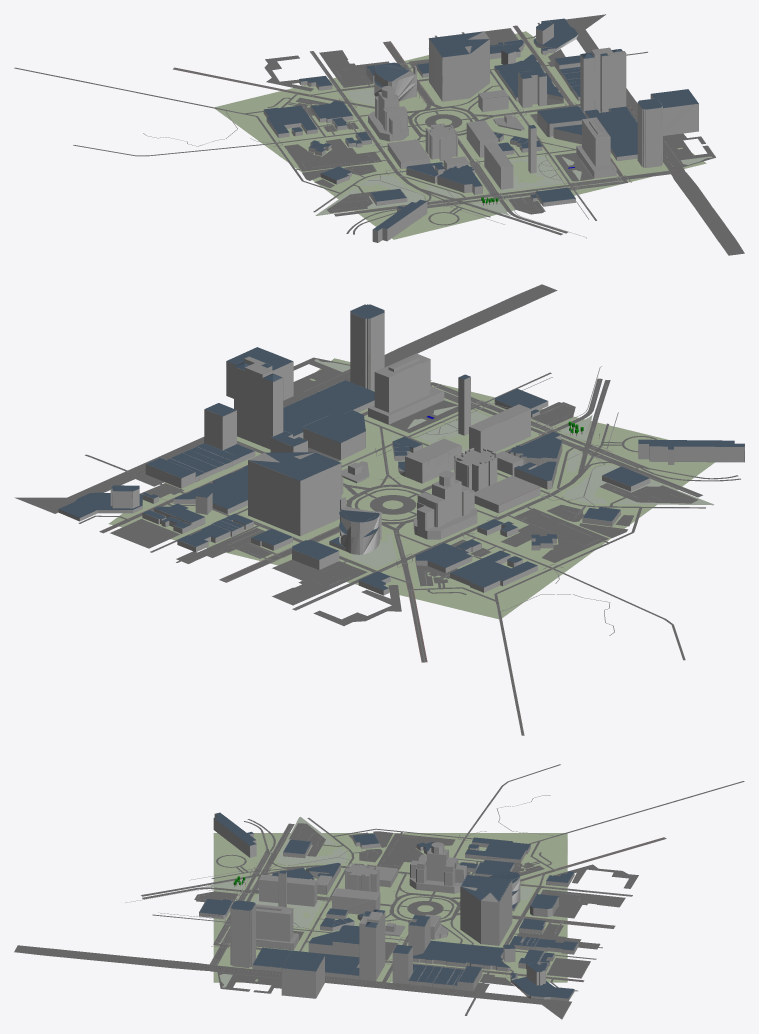
The model's file is map.obj.
The picture shows the model from 3 angles, top to bottom: view 1: azimuth 30°, elevation 25°; view 2: azimuth 150°, elevation 25°; view 3: azimuth 270°, elevation 25°; orthographic projection. The views are drawn at different scales.
Parts seen in each view (by area): view 1: Road572; view 2: Road572; view 3: Road572.
Part boxes in pixels (x1,y1,x2,y2): Road572: (14, 14, 744, 255); Road572: (14, 284, 744, 735); Road572: (14, 764, 744, 1019).
Size of the model in its own units: 1026 by 110 by 1239.
Materials: 1 (1 with a texture image).
